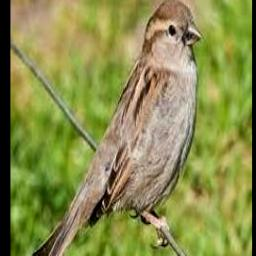Sparrow: (32, 0, 202, 256)
